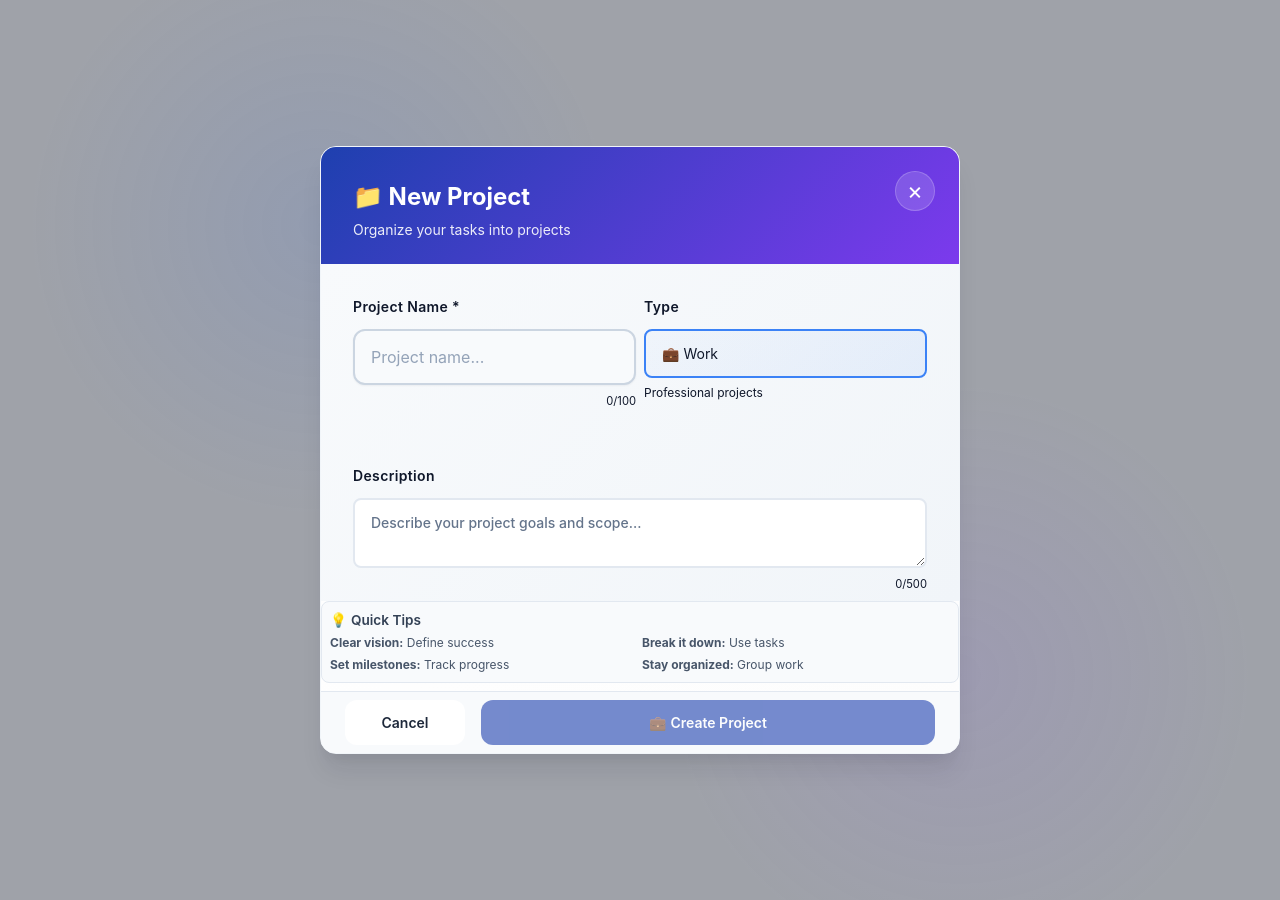
Test case: ProjectForm › clears field errors when user starts typing
// First, trigger a validation error
In the field with placeholder "Project name...": (494, 356) [353,328,636,384], type "A"
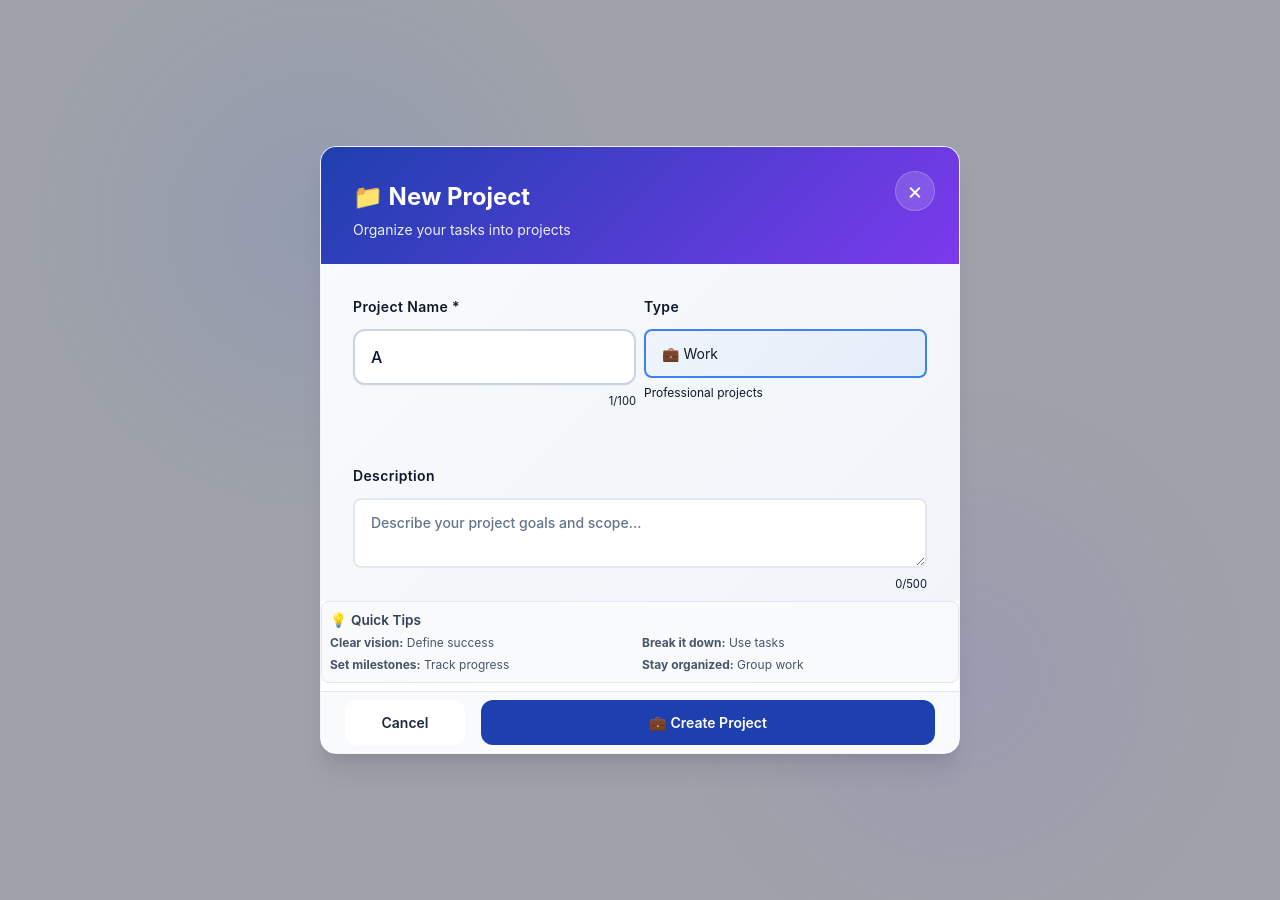
Click the button "💼 Create Project": click(708, 723) [481,700,935,746]
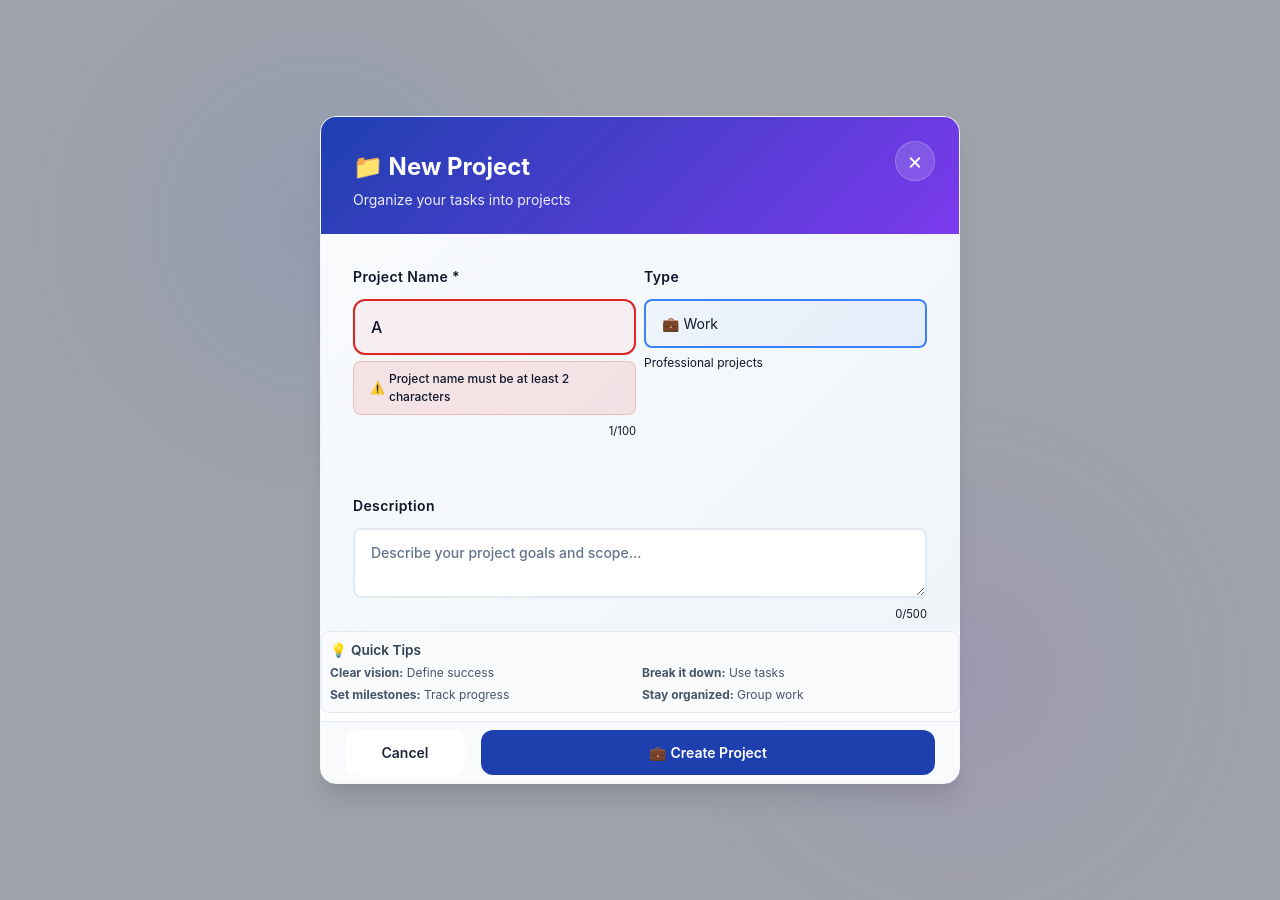
Expected: the text "Project name must be at least 2 characters" is shown, [389,370,569,404]
// Now type a valid name and check that error is cleared
Replace the text in the field with placeholder "Project name..." with "Valid Name": (494, 326) [353,298,636,354]
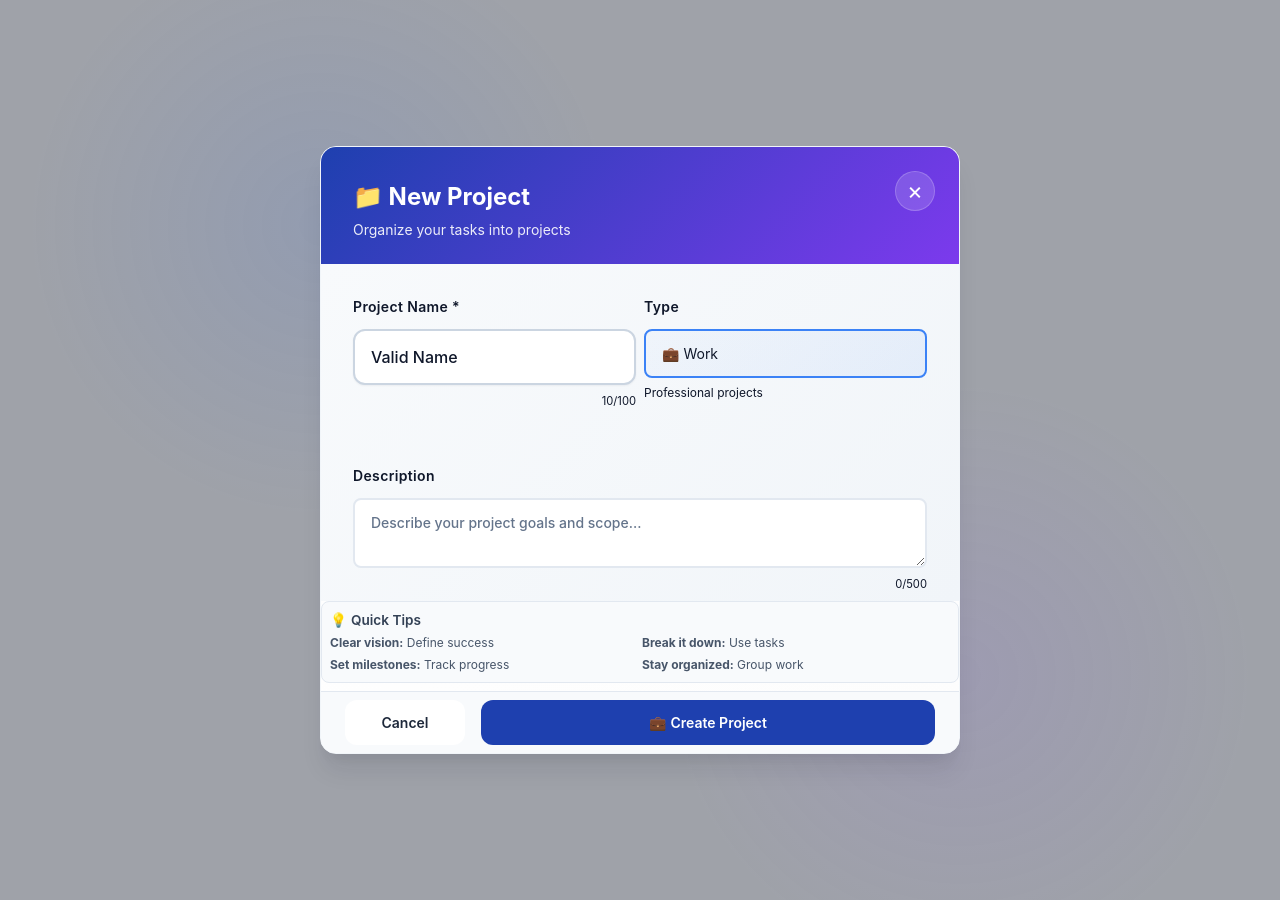
Expected: the text "Project name must be at least 2 characters" is gone
